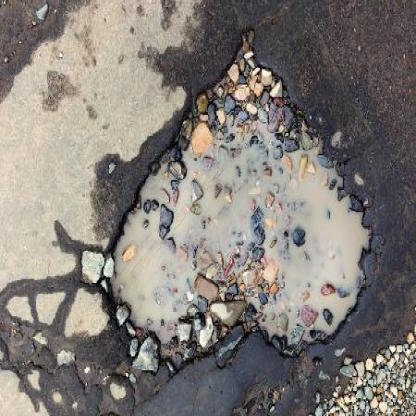pothole: (99, 31, 375, 381)
